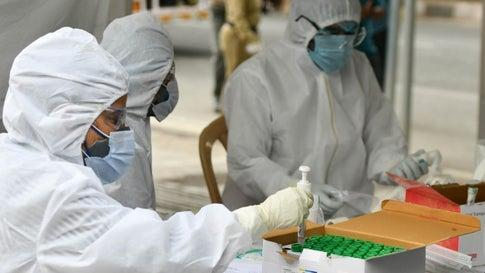Gloves: (259, 181, 314, 230), (389, 148, 429, 181), (312, 182, 342, 216)
Goggles: (315, 23, 366, 47), (100, 105, 131, 127)
